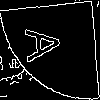A: (24, 24, 70, 65)
